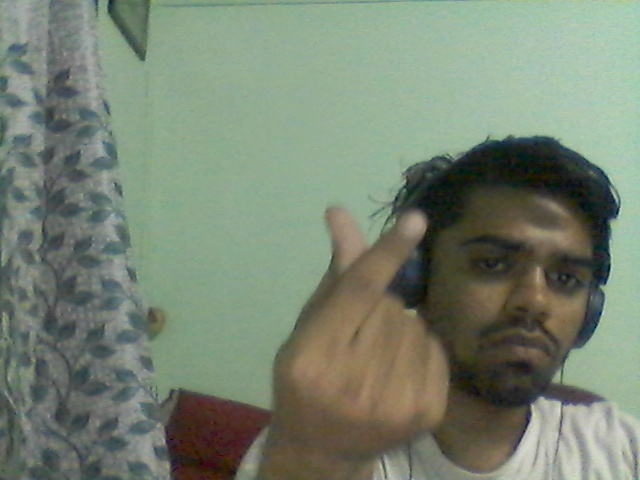I Love You: (248, 182, 473, 457)
